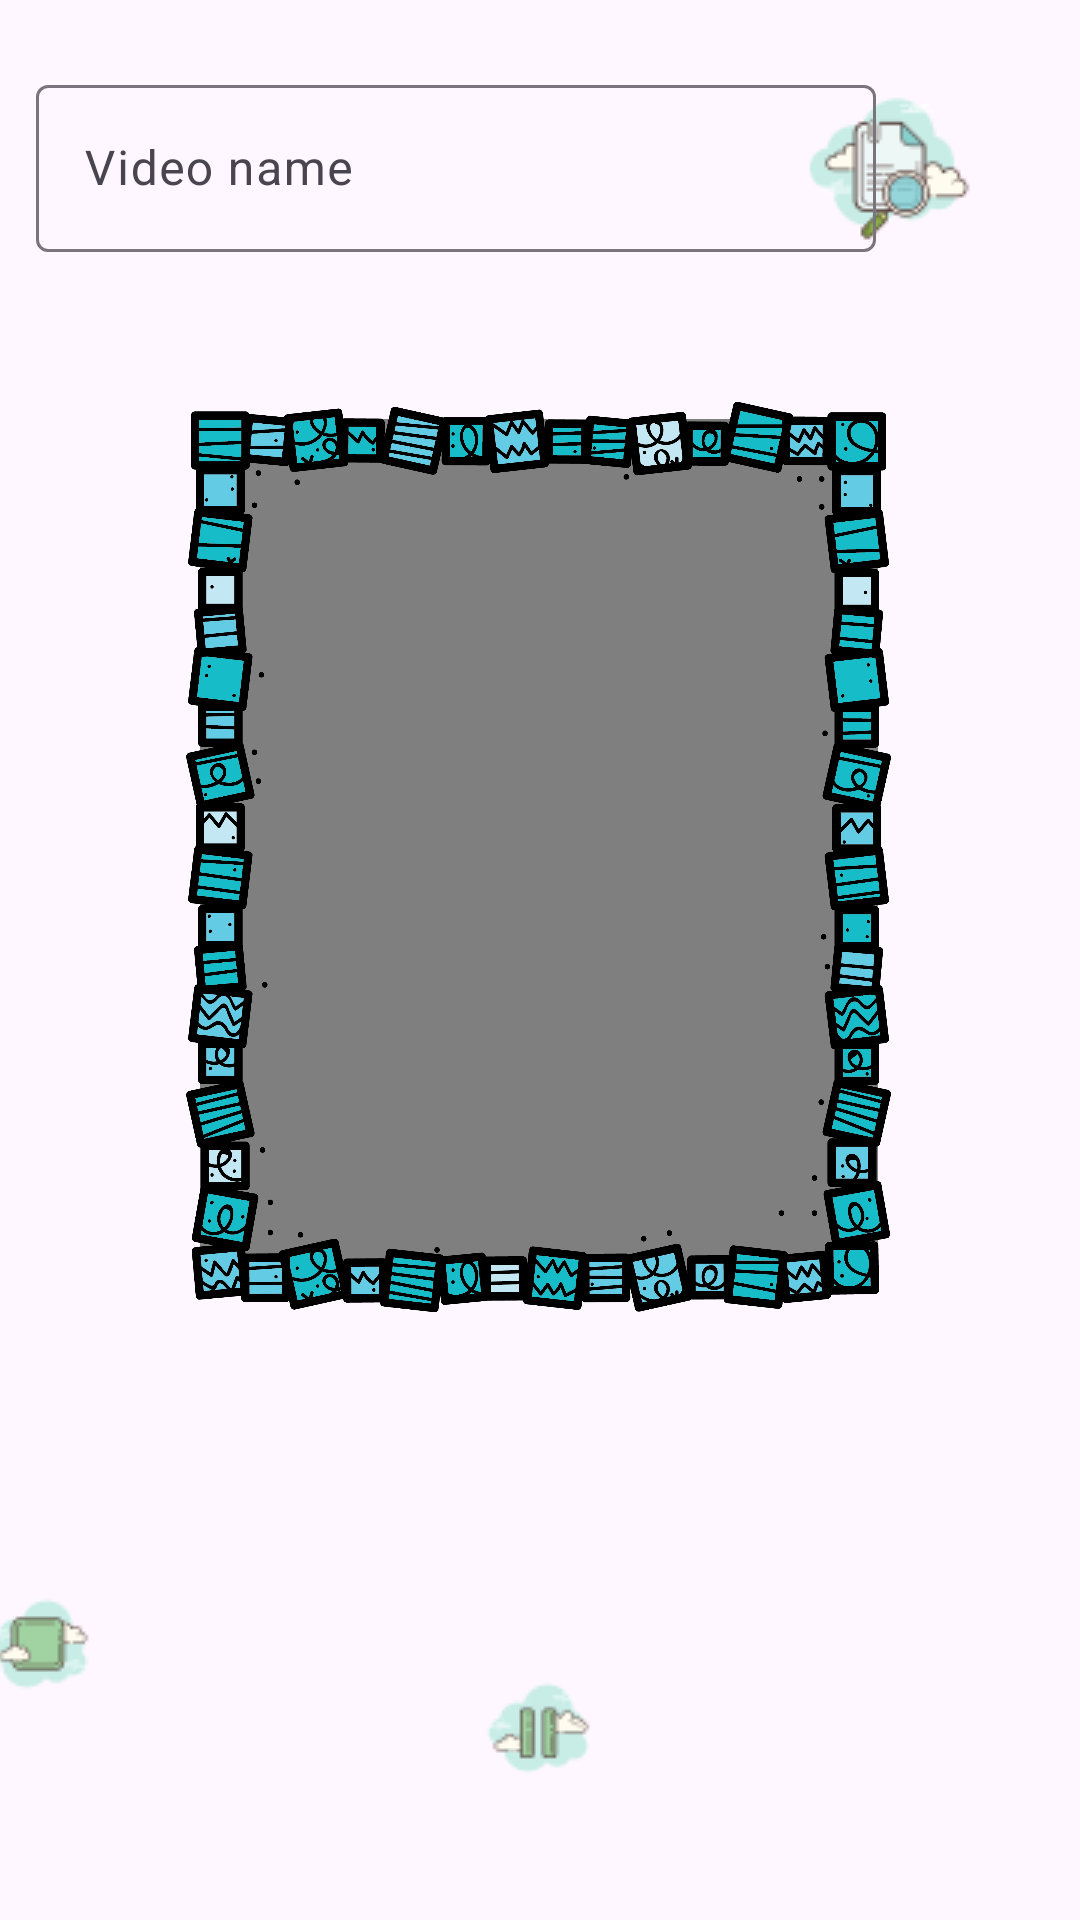

Where to tap for icons on this 1080px x 1920px app screen, as (x,y):
pausebtn: (539,1728)
